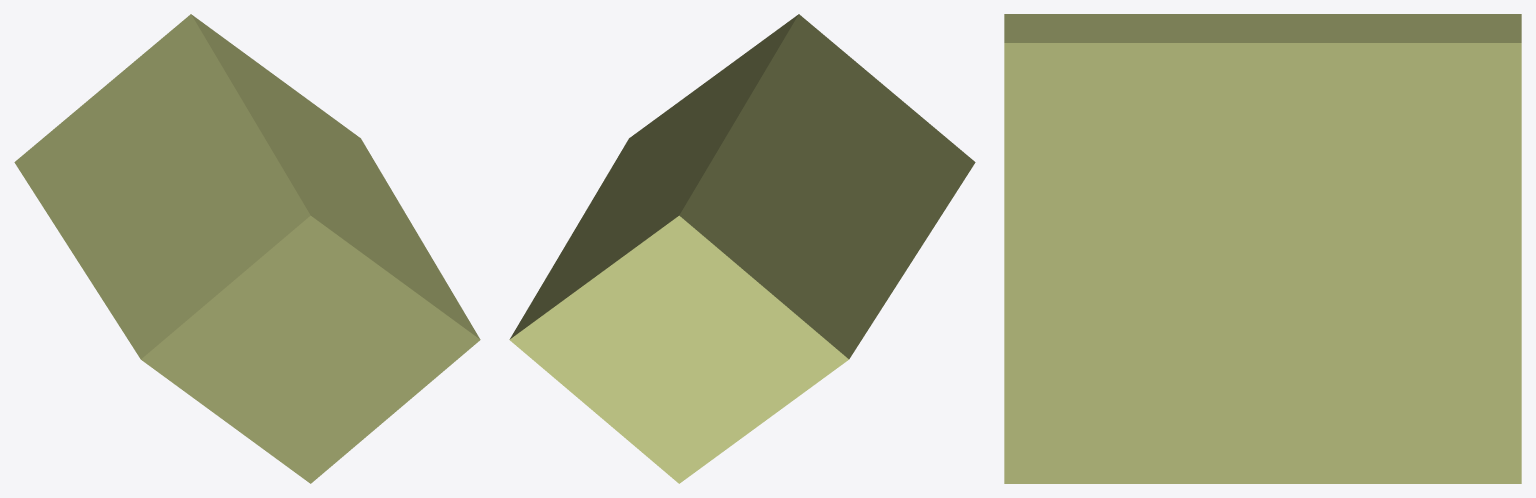
3 renders of one model, left to right at view 1: azimuth 30°, elevation 25°; view 2: azimuth 150°, elevation 25°; view 3: azimuth 270°, elevation 25°, orthographic. The views are drawn at different scales.
Visible parts, largest first — view 1: 0_1_2_0_3_3_1_3_3_0; view 2: 0_1_2_0_3_3_1_3_3_0; view 3: 0_1_2_0_3_3_1_3_3_0.
Part boxes in pixels (left/top/right/bottom): 0_1_2_0_3_3_1_3_3_0: left=14, top=14, right=480, bottom=483; 0_1_2_0_3_3_1_3_3_0: left=509, top=14, right=975, bottom=483; 0_1_2_0_3_3_1_3_3_0: left=1004, top=14, right=1521, bottom=483.
Size of the model in its own units: 9.06 by 9.74 by 9.
